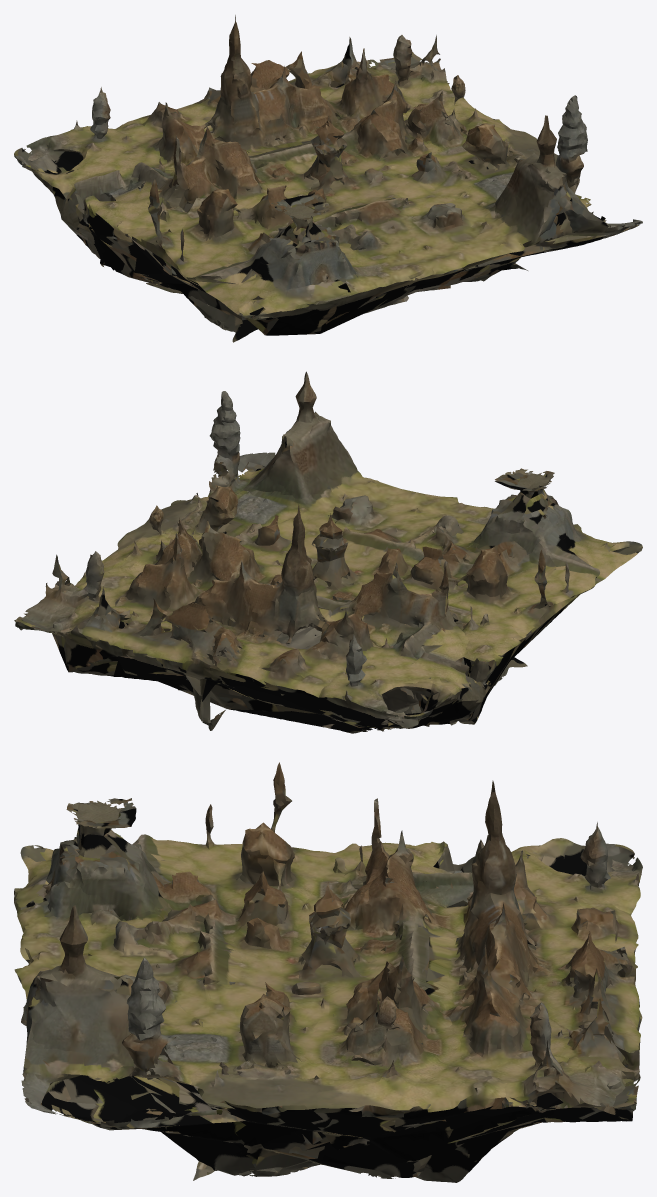
Rendered from orc_city.glb.
The picture shows the model from 3 angles, top to bottom: view 1: azimuth 30°, elevation 25°; view 2: azimuth 150°, elevation 25°; view 3: azimuth 270°, elevation 25°; orthographic projection. The views are drawn at different scales.
Parts seen in each view (by area): view 1: output_unwrapped; view 2: output_unwrapped; view 3: output_unwrapped.
Boxes of the visible parts, x1,y1,x2,y2 form: output_unwrapped: (14,15,642,342); output_unwrapped: (14,371,642,733); output_unwrapped: (14,762,642,1182).
Bounding box in the file's own units: 1.87 × 0.9615 × 1.87.
1 material, 1 textured.
